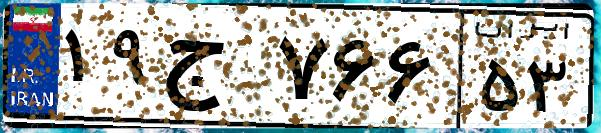1: (57, 26, 110, 100)
3: (525, 38, 570, 115)
5: (475, 38, 525, 113)
6: (385, 28, 445, 110), (330, 28, 385, 110)
7: (270, 28, 330, 110)
9: (110, 28, 158, 98)
ج: (158, 20, 270, 120)
